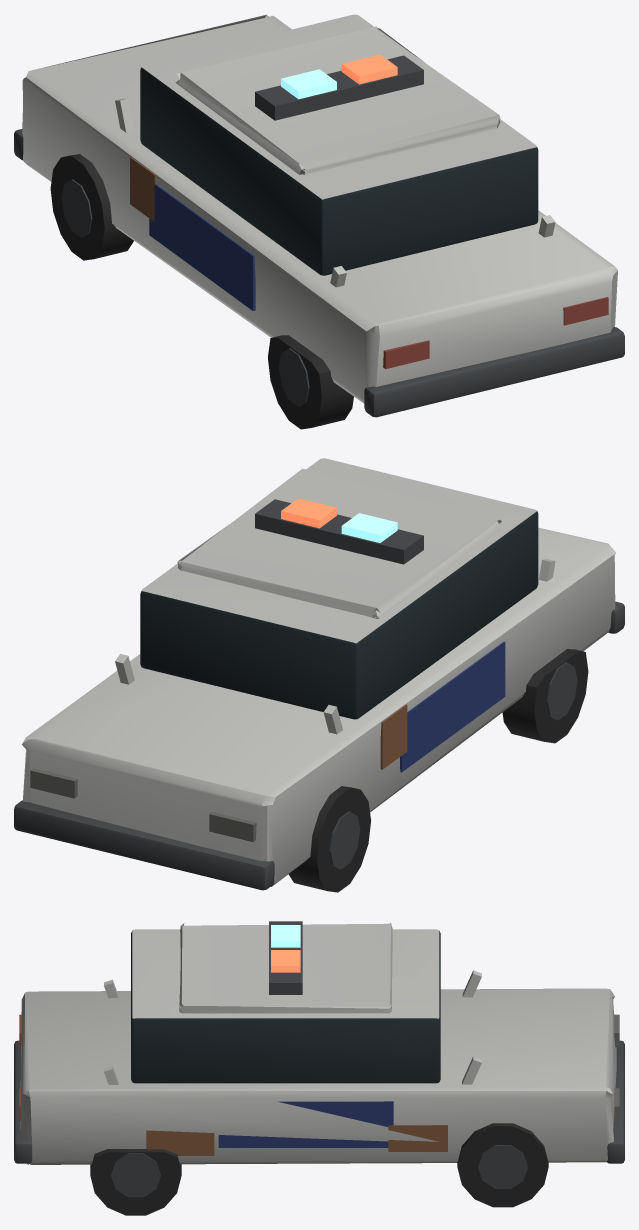
File: ZR_Car_Police.fbx
3 views of the same model, one above another, from view 1: azimuth 30°, elevation 25°; view 2: azimuth 150°, elevation 25°; view 3: azimuth 270°, elevation 25° (orthographic). The views are drawn at different scales.
Visible parts, largest first — view 1: ZR_Car_Police; view 2: ZR_Car_Police; view 3: ZR_Car_Police.
Part boxes in pixels (bbox=[...]): ZR_Car_Police: bbox=[14, 14, 624, 429]; ZR_Car_Police: bbox=[14, 458, 624, 892]; ZR_Car_Police: bbox=[14, 921, 624, 1215].
Size of the model in its own units: 1.95 by 1.76 by 4.54.
